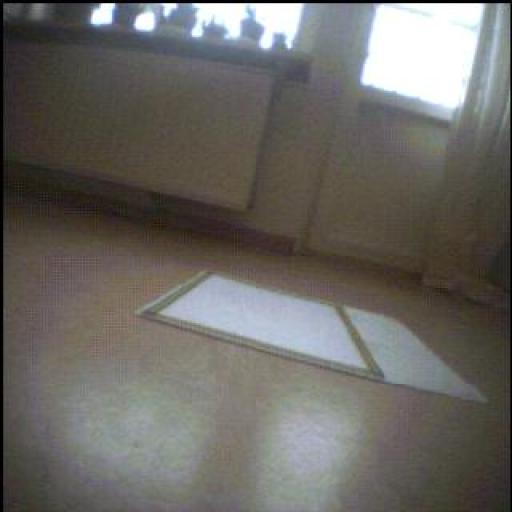Pad: (139, 273, 488, 403), (140, 273, 385, 380)
